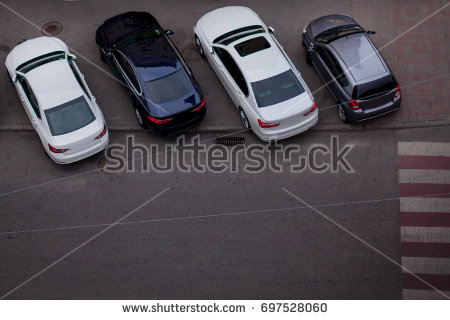car: (195, 5, 319, 143), (94, 12, 207, 132), (5, 36, 109, 165), (301, 13, 401, 125)
